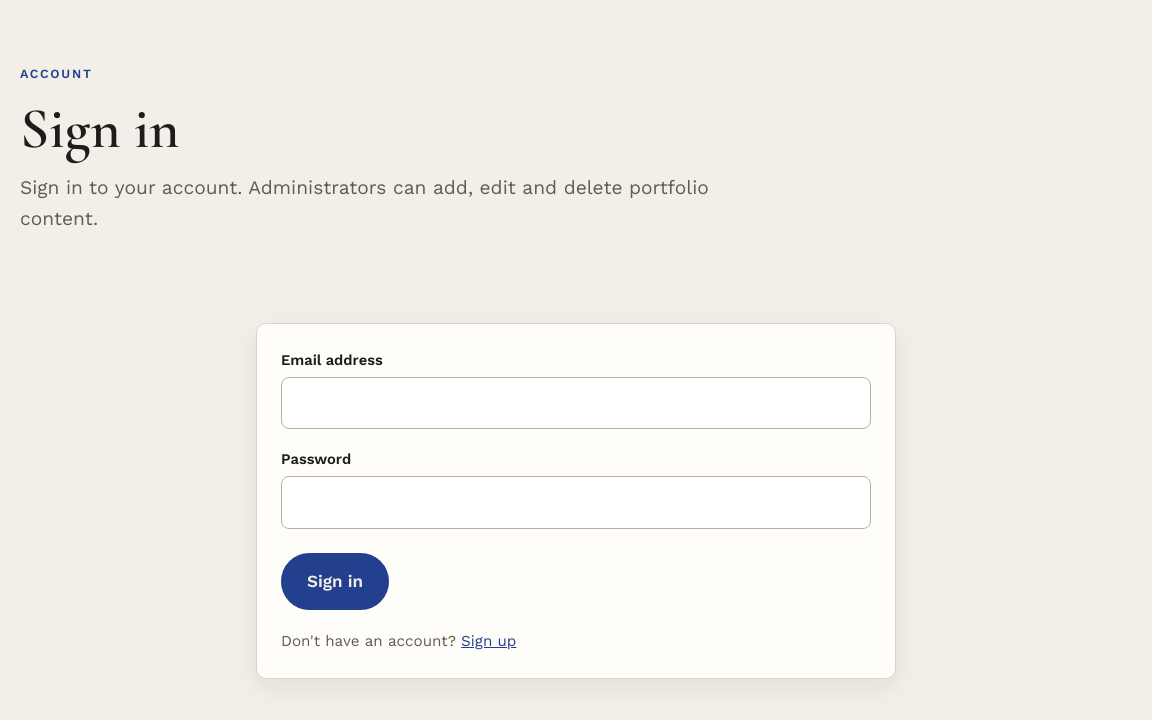
Signin page › shows validation errors and does not call the API when the form is empty
The width and height of the screenshot is (1152, 720).
Click the button "Sign in" at x=335, y=581, box [281,552,389,610]
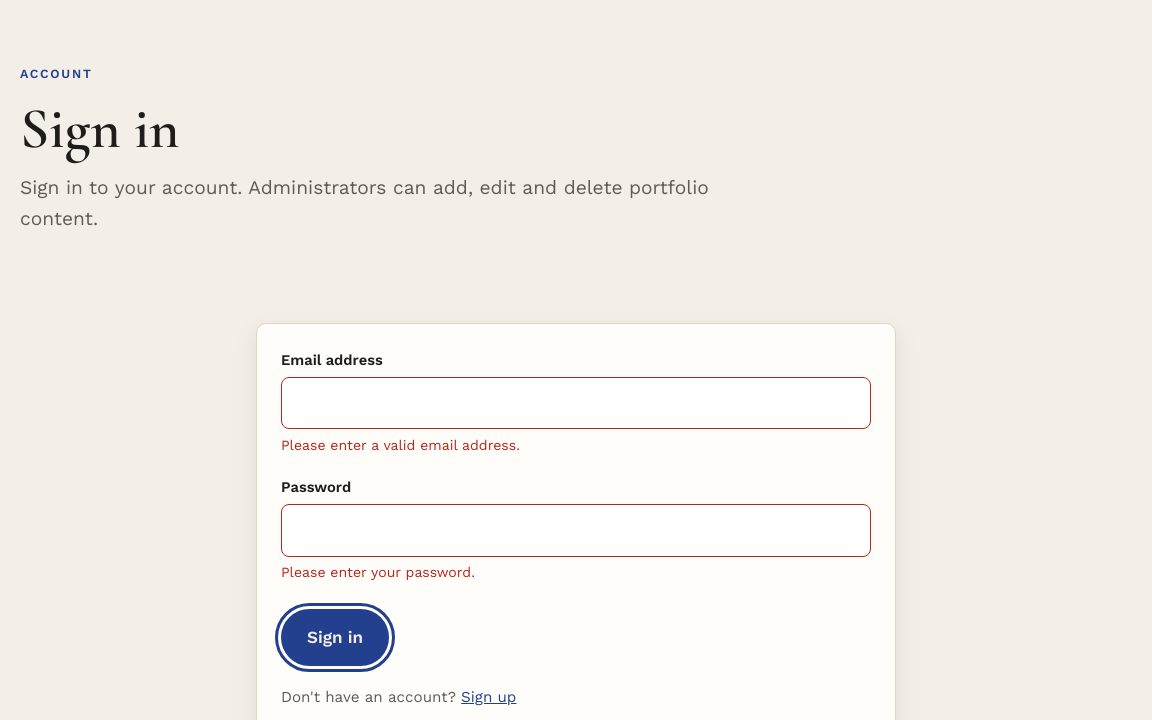
Now the text "Please enter a valid email address." is shown, box [281,437,520,453]
Now the text "Please enter your password." is shown, box [281,564,475,580]
